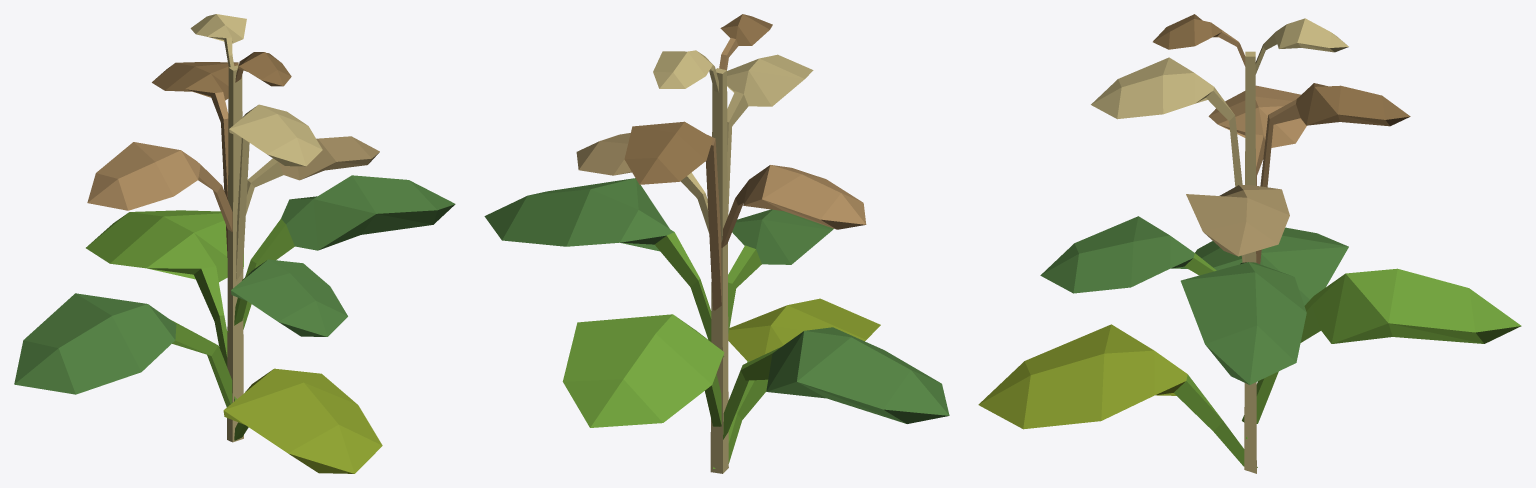
Rendered from EA_M_Env_Dry_Shrub_01c.fbx.
3 renders of one model, left to right at view 1: azimuth 30°, elevation 25°; view 2: azimuth 150°, elevation 25°; view 3: azimuth 270°, elevation 25°, orthographic. The views are drawn at different scales.
Parts seen in each view (by area): view 1: EA_M_Env_Dry_Shrub_01c_LOD0; view 2: EA_M_Env_Dry_Shrub_01c_LOD0; view 3: EA_M_Env_Dry_Shrub_01c_LOD0.
Part boxes in pixels (x1=…): EA_M_Env_Dry_Shrub_01c_LOD0: x1=14, y1=14, x2=455, y2=473; EA_M_Env_Dry_Shrub_01c_LOD0: x1=484, y1=14, x2=949, y2=473; EA_M_Env_Dry_Shrub_01c_LOD0: x1=978, y1=14, x2=1521, y2=473.
Size of what is drawn, in the model's own units: 1.14 by 1.02 by 1.1.
